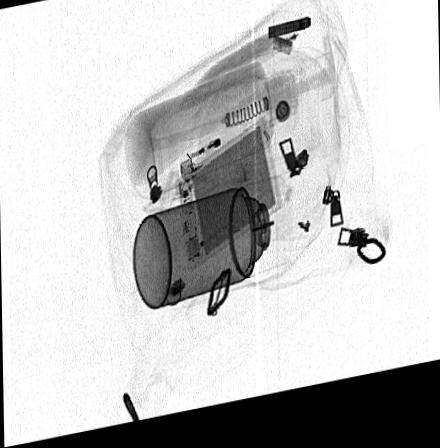Lighter: (179, 129, 249, 189)
Powerbank: (174, 126, 282, 279)
Sprayer: (133, 184, 293, 314)
